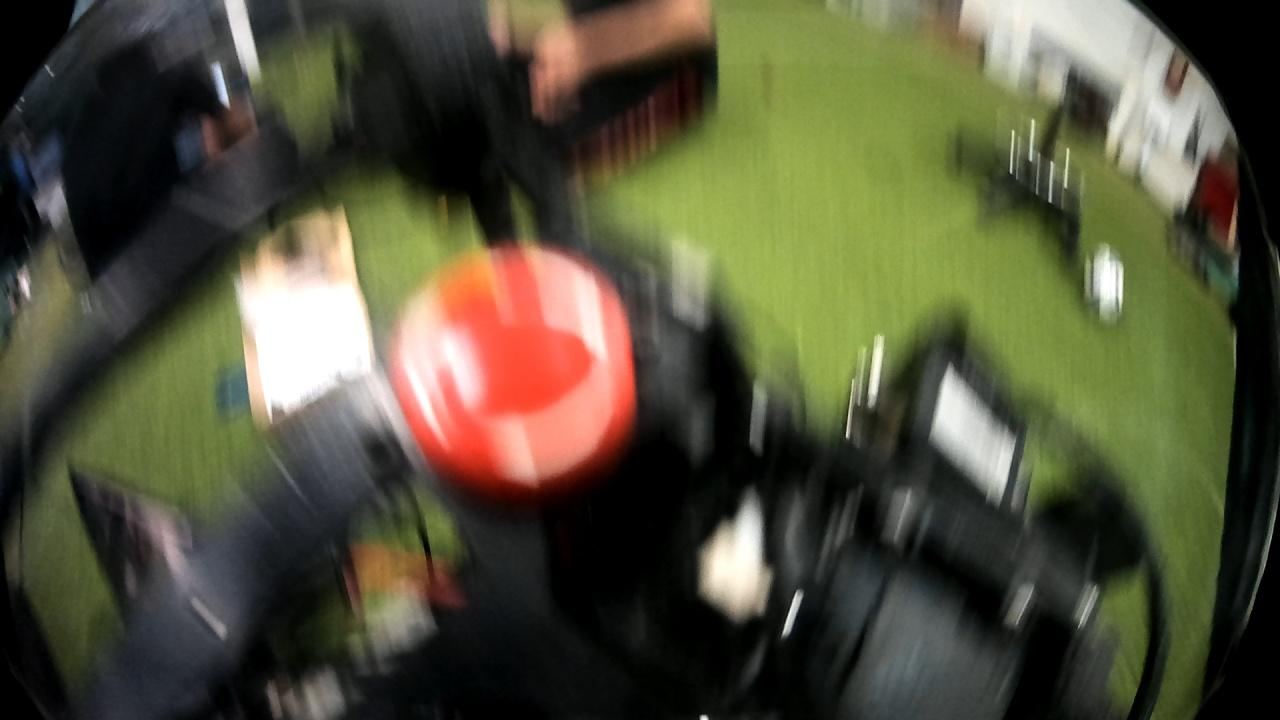ball: (1077, 236, 1131, 335)
